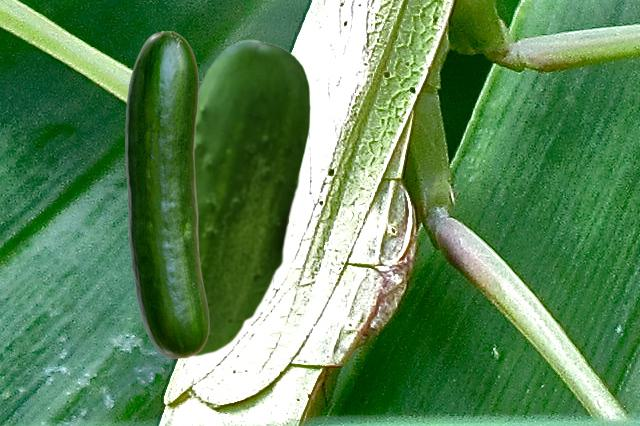cucumber: (193, 39, 309, 356), (125, 31, 208, 357)
